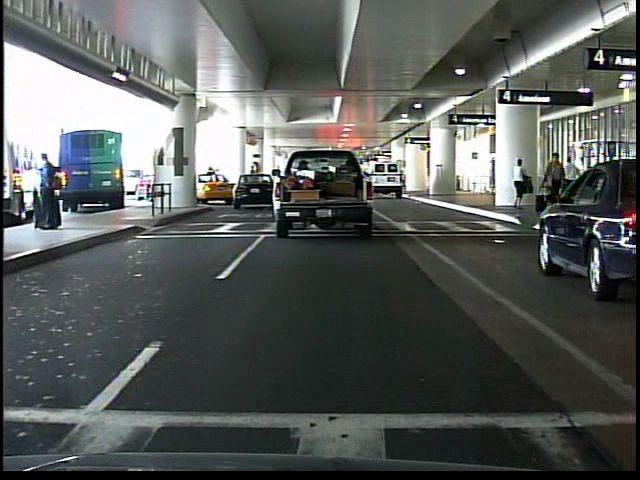person: (32, 144, 68, 238), (542, 148, 570, 217), (561, 155, 583, 215), (508, 155, 531, 212)
